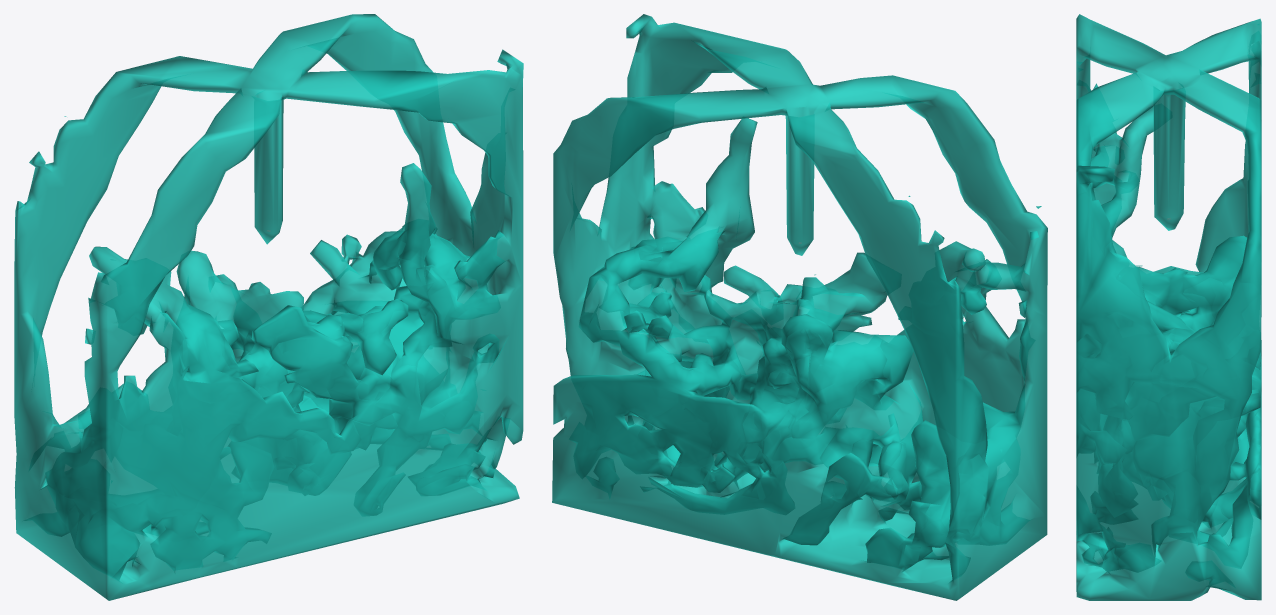
The picture shows the model from 3 angles, left to right: view 1: azimuth 30°, elevation 25°; view 2: azimuth 150°, elevation 25°; view 3: azimuth 270°, elevation 25°; orthographic projection. The views are drawn at different scales.
Parts seen in each view (by area): view 1: Liquid_Domain; view 2: Liquid_Domain; view 3: Liquid_Domain.
Part boxes in pixels (<box>): Liquid_Domain: <box>14,14,523,600</box>; Liquid_Domain: <box>552,14,1047,600</box>; Liquid_Domain: <box>1076,14,1261,600</box>.
Size of the model in its own units: 885 by 884 by 344.
